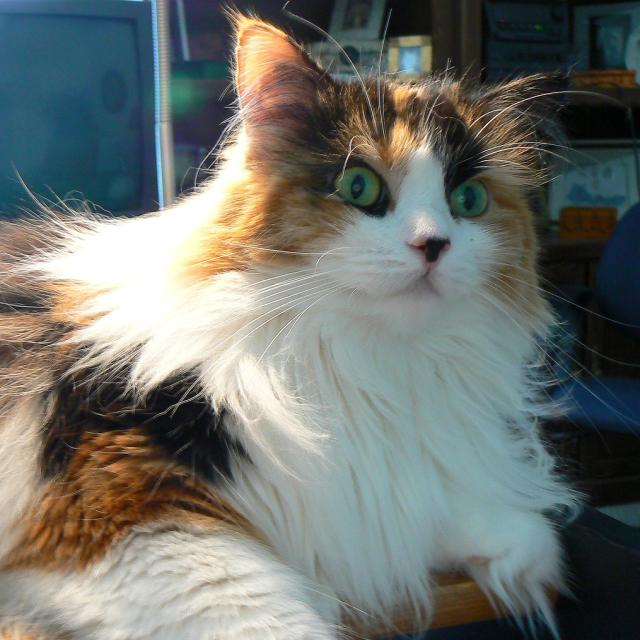cat: (2, 3, 611, 639)
